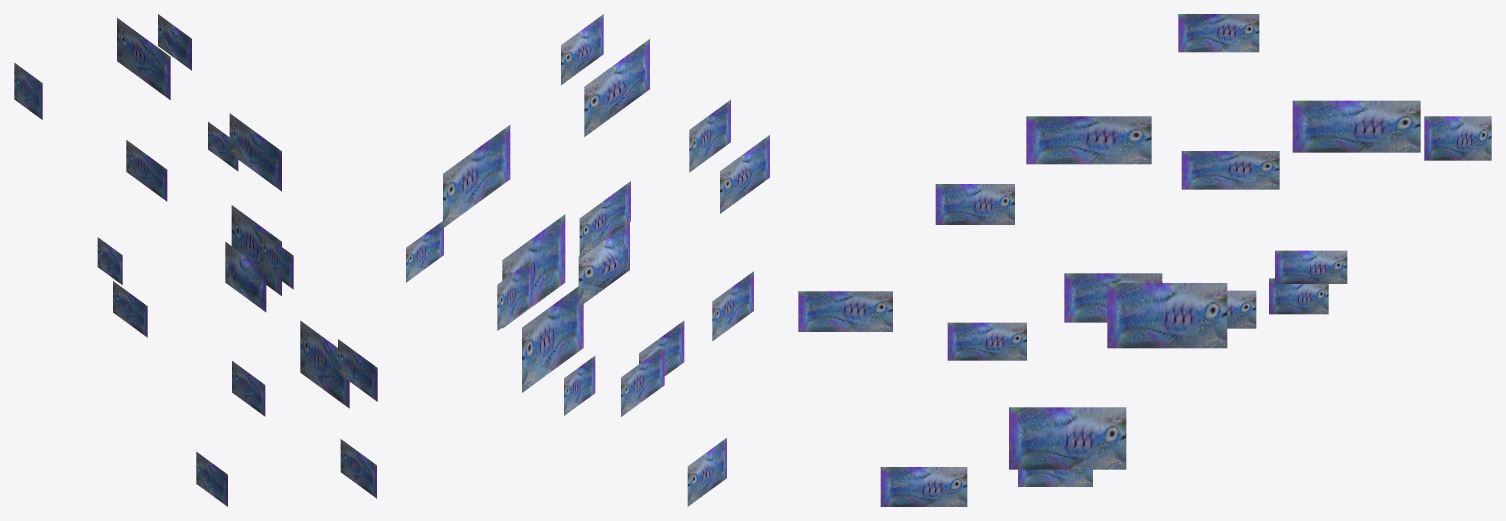
File: MINOWS_BIND.fbx
3 renders of one model, left to right at view 1: azimuth 30°, elevation 25°; view 2: azimuth 150°, elevation 25°; view 3: azimuth 270°, elevation 25°, orthographic. The views are drawn at different scales.
Parts seen in each view (by area): view 1: MINOWS_BIND; view 2: MINOWS_BIND; view 3: MINOWS_BIND.
Part boxes in pixels (<box>): MINOWS_BIND: <box>14,14,377,506</box>; MINOWS_BIND: <box>406,14,769,506</box>; MINOWS_BIND: <box>798,14,1491,506</box>.
Bounding box in the file's own units: 1700 × 4638 × 5933.
1 material, 1 textured.
